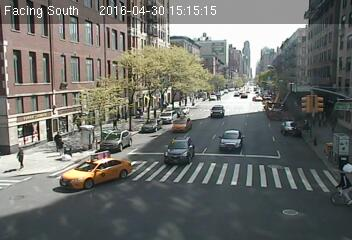neg: (282, 12, 326, 69), (172, 176, 201, 215), (326, 163, 351, 205), (153, 20, 170, 43), (117, 44, 134, 66), (57, 81, 73, 102), (225, 122, 240, 142), (78, 122, 93, 142), (135, 171, 149, 190), (162, 76, 175, 92), (207, 206, 219, 222), (96, 163, 106, 175)
pos: (10, 144, 30, 171), (47, 129, 65, 153), (106, 115, 120, 132), (119, 107, 132, 124)
